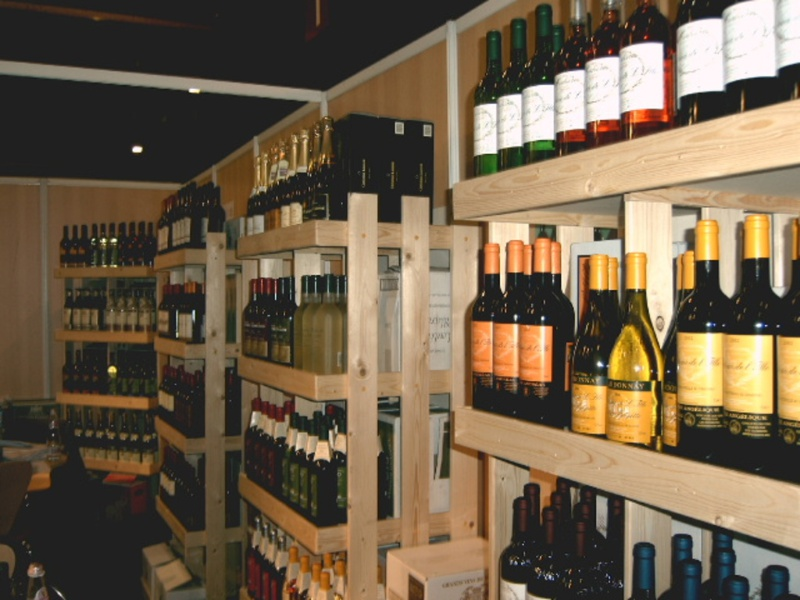wine: (459, 4, 800, 598), (239, 109, 438, 600), (149, 186, 244, 565), (53, 215, 154, 471)
